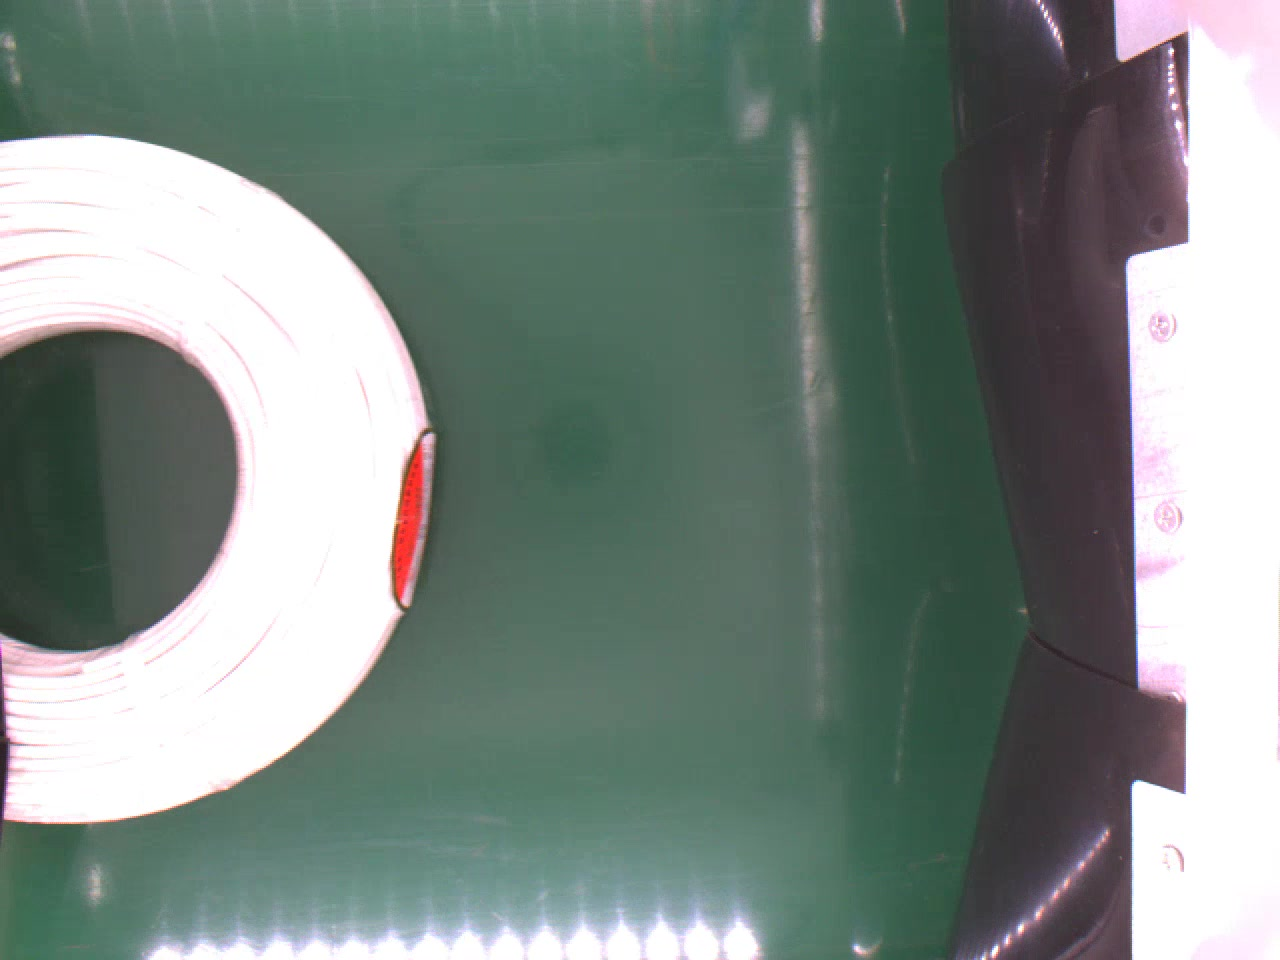white: (0, 129, 437, 826)
